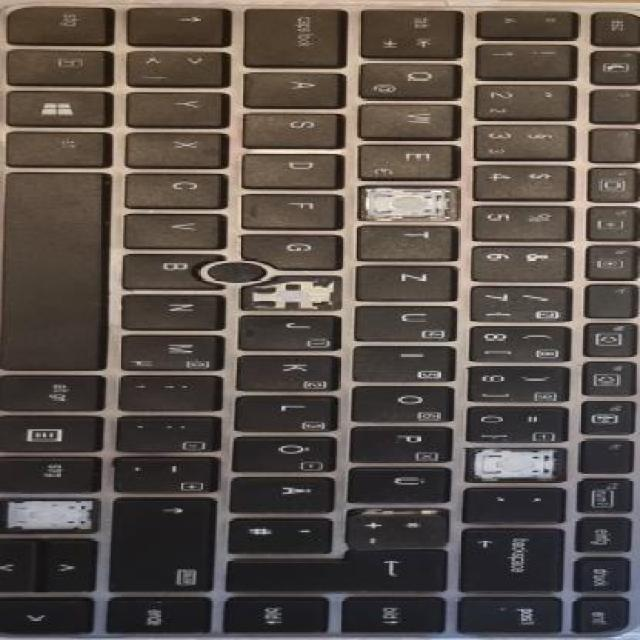Keyboard problems: (466, 449, 563, 482), (358, 188, 457, 220), (242, 277, 338, 309), (0, 498, 97, 529)
